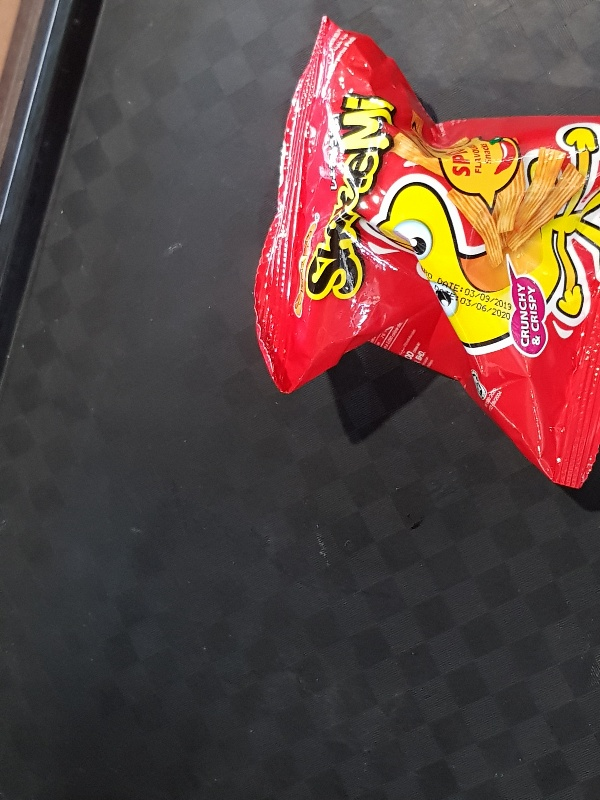ShoyueMi Spicy Flavoured Snacks: (249, 16, 600, 490)
